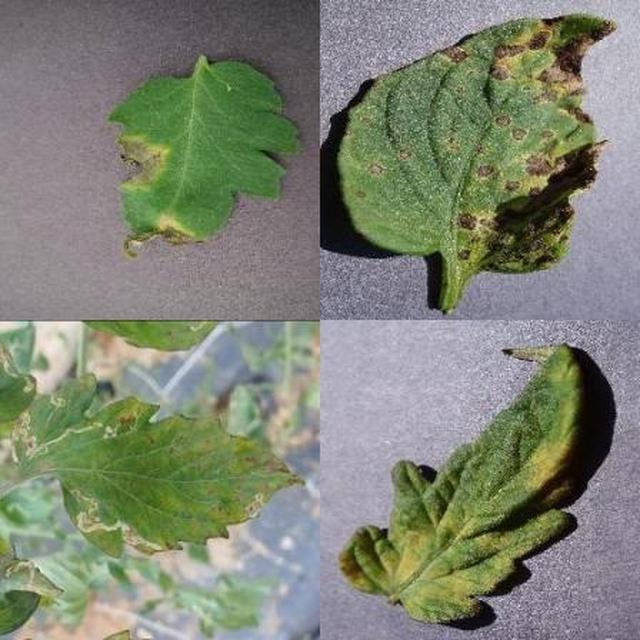Late Blight Leaf: (226, 204, 640, 640)
